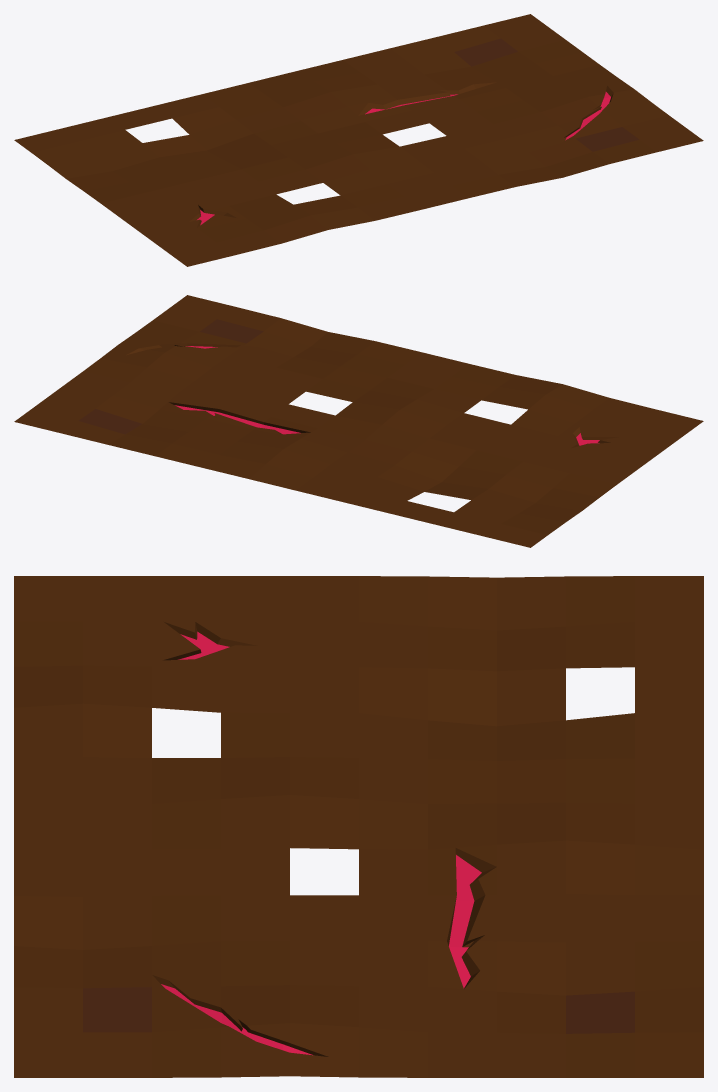
The model's file is hellfloor.fbx.
3 views of the same model, one above another, from view 1: azimuth 30°, elevation 25°; view 2: azimuth 150°, elevation 25°; view 3: azimuth 270°, elevation 25° (orthographic). The views are drawn at different scales.
Parts seen in each view (by area): view 1: Plane; view 2: Plane; view 3: Plane.
Boxes of the visible parts, box(x1,y1,x2,y2) form: Plane: box(14, 14, 703, 266); Plane: box(14, 295, 703, 547); Plane: box(14, 576, 703, 1077).
Size of the model in its own units: 2078 by 43.54 by 1207.
